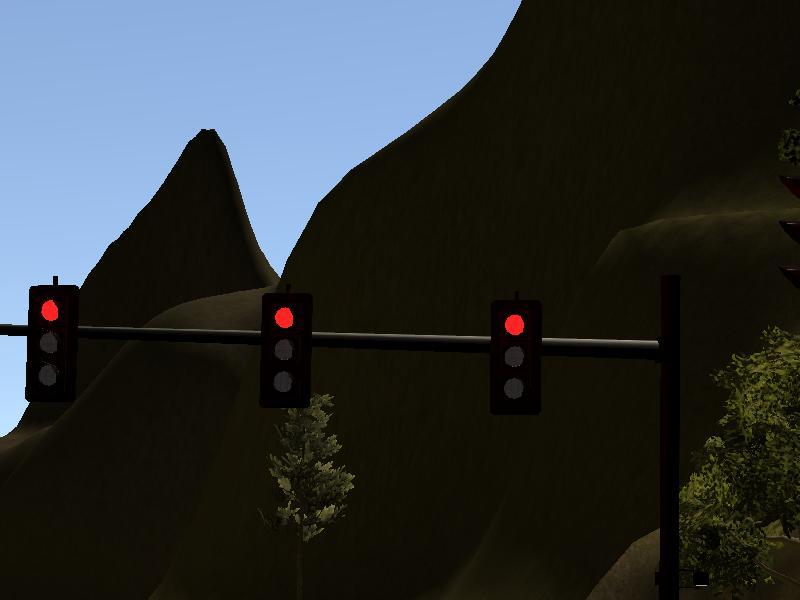Red: (30, 286, 76, 406), (494, 303, 541, 412), (266, 296, 307, 400)
